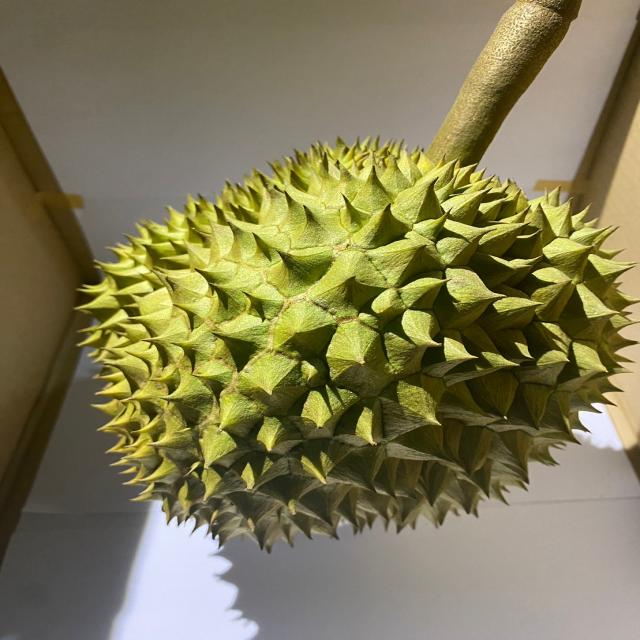immature: (72, 134, 640, 556)
